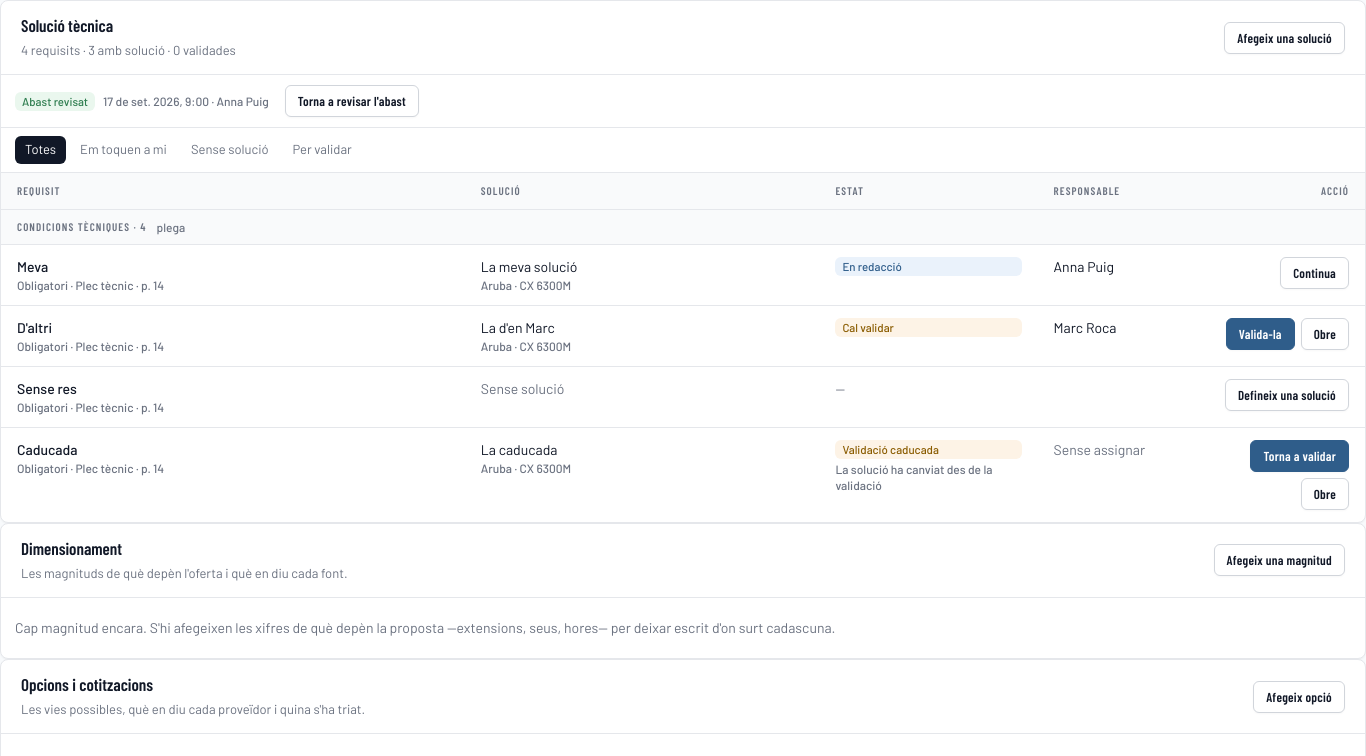
Test case: Solució tècnica · filtres › Per validar: pendents i caducades
Click the button "Per validar" at (322, 150), box 283,136 -> 362,164
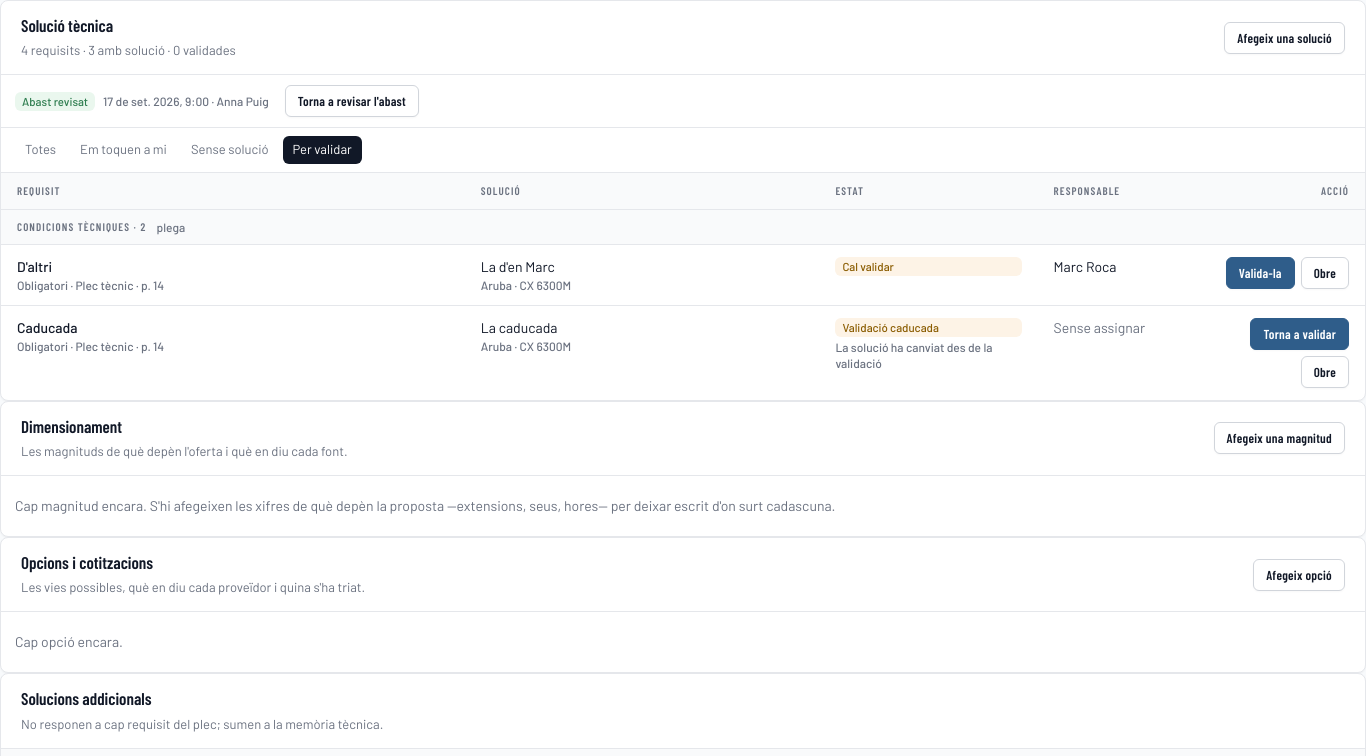
Expected: the text "D'altri" is shown, 17,258 -> 52,275
Now the text "Meva" is gone
